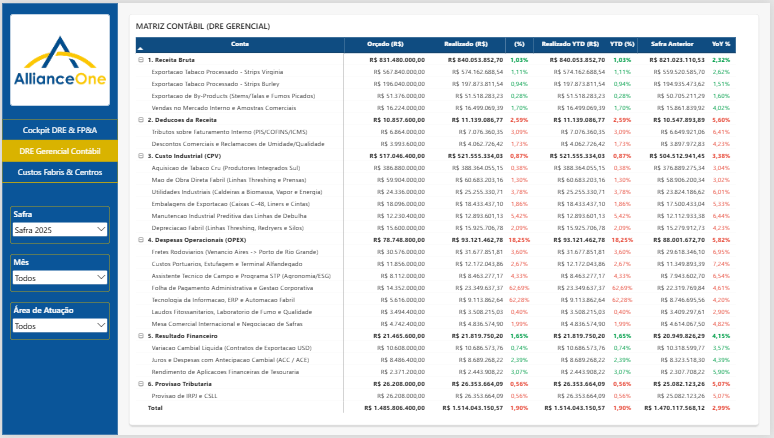

The dashboard page shown, as its layout file describes it:
{"tool":"powerbi","page":{"name":"DRE Gerencial Contábil","canvas":[1920,1080],"ordinal":1},"visuals":[{"type":"pivotTable","title":"MATRIZ CONTÁBIL (DRE GERENCIAL)","fields":{"Rows":["Dim_PlanoContas.Nivel1","Dim_PlanoContas.Nome_Conta"],"Values":["_Medidas.Orcado Total","_Medidas.Realizado Total","_Medidas.Variancia %","_Medidas.Realizado YTD","_Medidas.Variancia YTD %","_Medidas.Realizado SPLY","_Medidas.Variacao YoY %"]},"box":[316.7,26.7,1575,1028.3],"z":0},{"type":"shape","box":[0,0,290,1080],"z":1000},{"type":"pageNavigator","box":[0,288.8,290,160],"z":2000},{"type":"slicer","fields":{"Values":["Dim_Calendario.Safra_Ano"]},"box":[20,506.7,250,95],"z":3000},{"type":"slicer","fields":{"Values":["Dim_Calendario.NomeMes"]},"box":[20,626.7,250,95],"z":4000},{"type":"slicer","fields":{"Values":["Dim_CentroCusto.Area_Negocio"]},"box":[20,746.7,250,95],"z":5000},{"type":"shape","box":[20,26.7,250,230],"z":6000},{"type":"image","box":[30,26.7,230,230],"z":7000}]}

Visuals, with their boxes on the page's 1920x1080 design canvas (x1, y1, x2, y2). These are canvas units, not pixel positions in the 774x438 screenshot, which may show the page scaled, cropped or inside an application window:
"MATRIZ CONTÁBIL (DRE GERENCIAL)" pivotTable: region(317, 27, 1892, 1055)
shape: region(0, 0, 290, 1080)
pageNavigator: region(0, 289, 290, 449)
slicer - Dim_Calendario.Safra_Ano: region(20, 507, 270, 602)
slicer - Dim_Calendario.NomeMes: region(20, 627, 270, 722)
slicer - Dim_CentroCusto.Area_Negocio: region(20, 747, 270, 842)
shape: region(20, 27, 270, 257)
image: region(30, 27, 260, 257)
